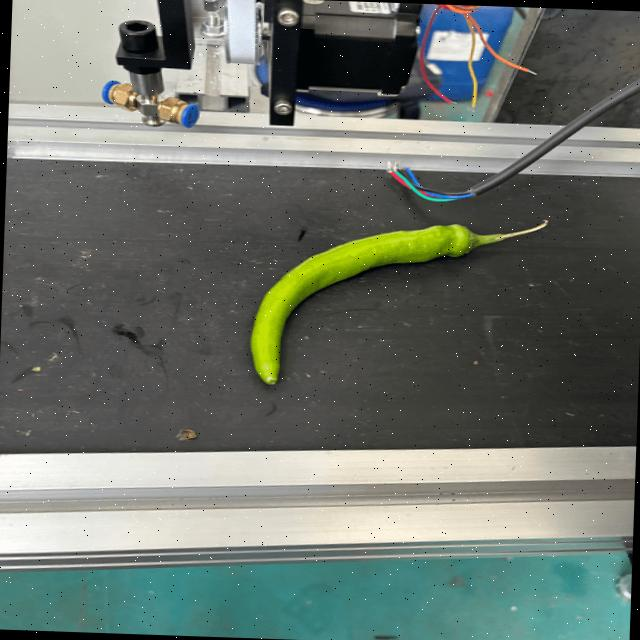chili: (245, 220, 477, 388)
